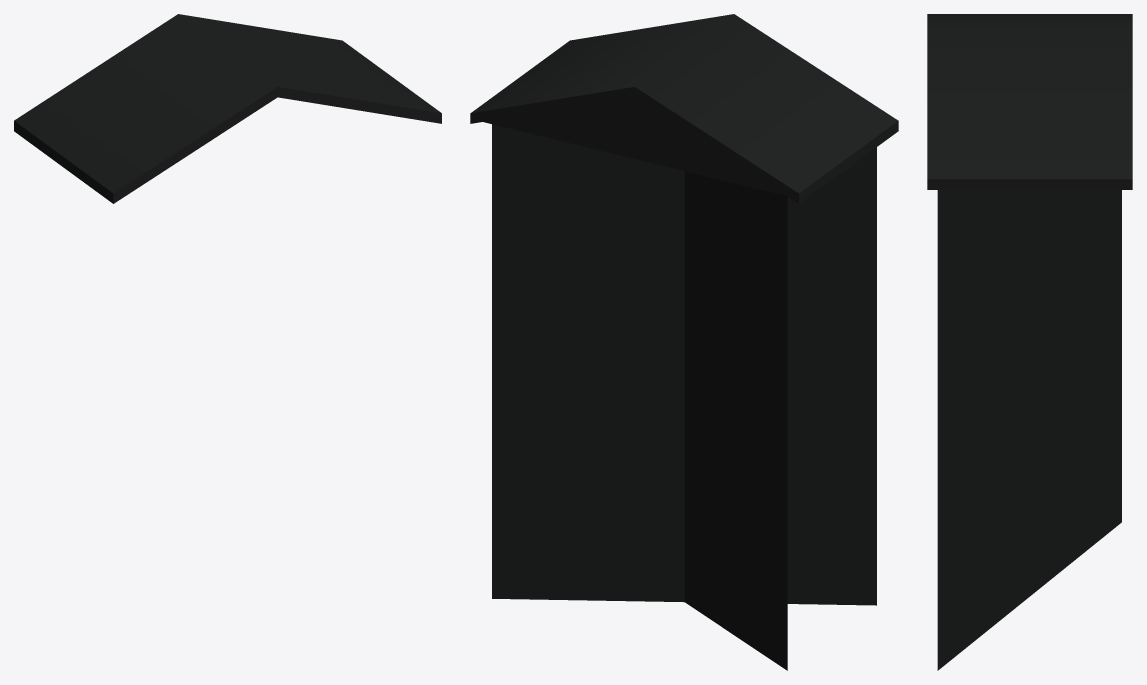
Rendered from AMB_KODATE_D4_00.glb.
The picture shows the model from 3 angles, left to right: view 1: azimuth 30°, elevation 25°; view 2: azimuth 150°, elevation 25°; view 3: azimuth 270°, elevation 25°; orthographic projection. The views are drawn at different scales.
Visible parts, largest first — view 1: BASE; view 2: BASE; view 3: BASE.
Part boxes in pixels (x1=…): BASE: x1=14, y1=14, x2=441, y2=203; BASE: x1=470, y1=14, x2=898, y2=670; BASE: x1=927, y1=14, x2=1132, y2=670.
Size of the model in its own units: 60.36 by 96.87 by 31.65.
1 material, 1 textured.
